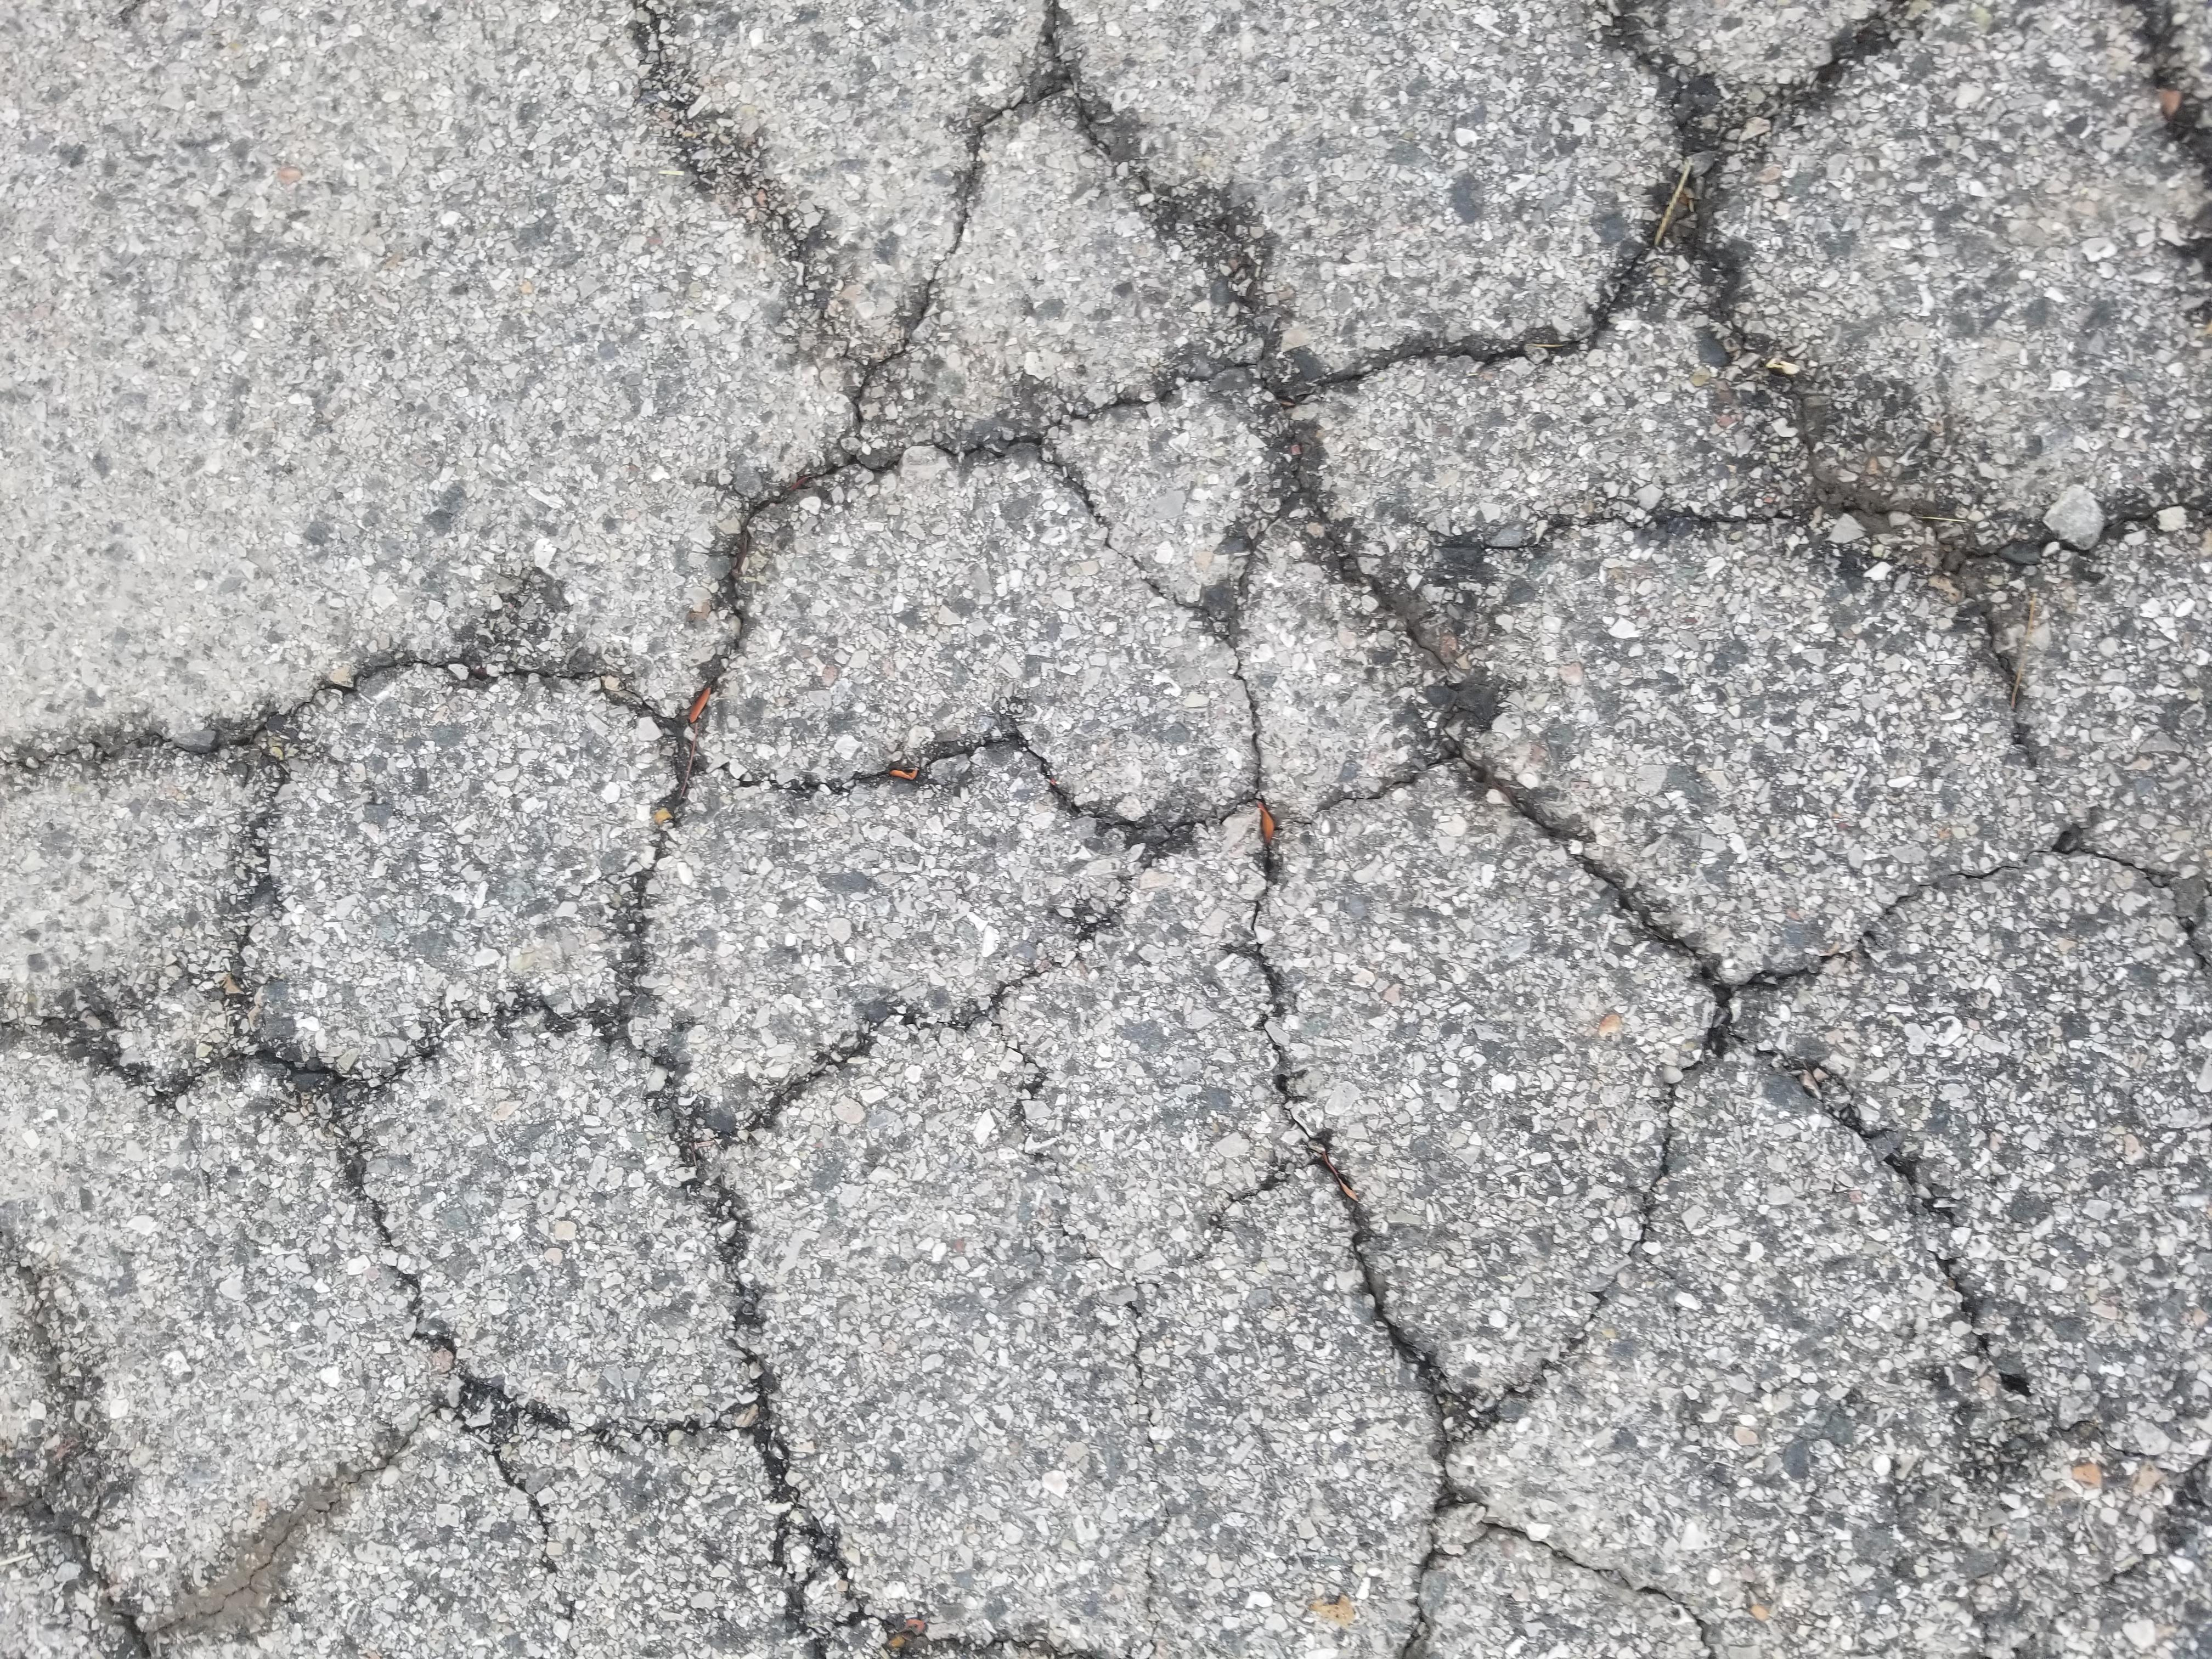crack: (30, 21, 2181, 1650)
